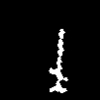double_crochet: (49, 29, 67, 92)
